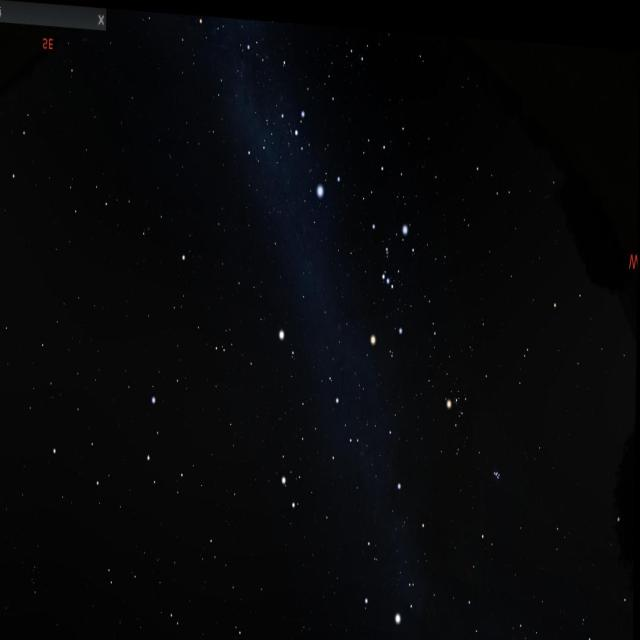canis_major: (284, 80, 349, 200)
canis_minor: (273, 306, 305, 372)
gemini: (275, 374, 372, 536)
leo: (41, 371, 197, 538)
orion: (363, 202, 417, 362)
pleiades: (490, 454, 506, 480)
taurus: (437, 366, 516, 496)
